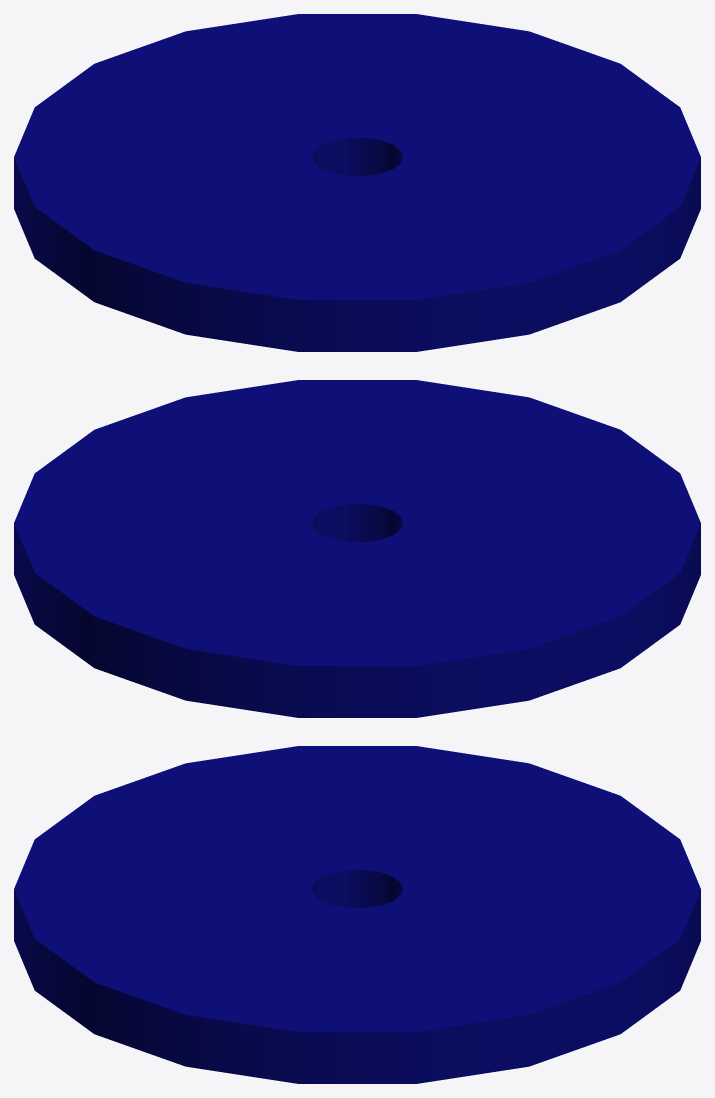
Rendered from Disco2.fbx.
3 renders of one model, top to bottom at view 1: azimuth 30°, elevation 25°; view 2: azimuth 150°, elevation 25°; view 3: azimuth 270°, elevation 25°, orthographic.
Parts seen in each view (by area): view 1: Disc2; view 2: Disc2; view 3: Disc2.
Boxes of the visible parts, box(x1,y1,x2,y2) form: Disc2: box(14, 14, 700, 351); Disc2: box(14, 380, 700, 717); Disc2: box(14, 746, 700, 1083).
Size of the model in its own units: 118 by 10 by 120.
